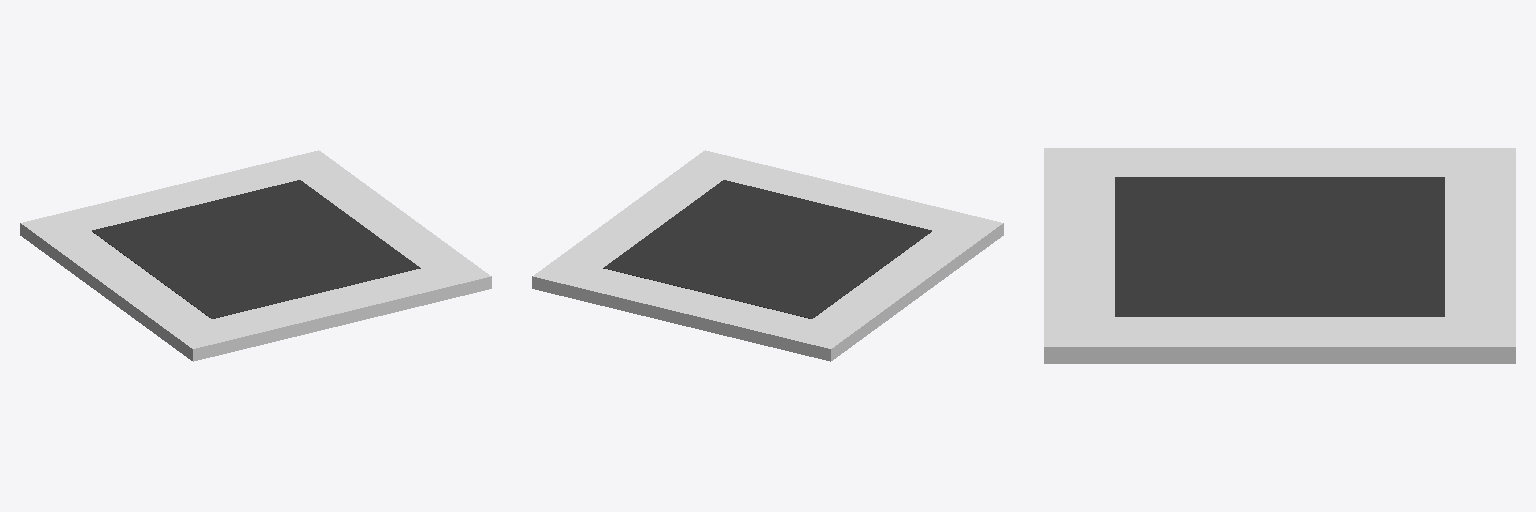
robot.urdf — workspace:
<?xml version="1.0" ?>

<robot name="workspace">
    <material name="workspace">
        <color rgba="0.93 0.93 0.93 1"/>
    </material>
    <material name="range">
        <color rgba="0.3 0.3 0.3 0.3"/>
    </material>
    <link name="workspace">
        <contact>
            <lateral_friction value="0.1"/>
        </contact>
        <inertial>
            <origin rpy="0 0 0" xyz="0 0 0"/>
            <mass value="0"/>
            <inertia ixx="0.1" ixy="0" ixz="0" iyy="0.1" iyz="0" izz="0.1"/>
        </inertial>
        <visual>
            <origin rpy="0 0 0" xyz="0 0 0"/>
            <geometry>
                <box size="0.5 0.5 0.02"/>
            </geometry>
            <material name="workspace"/>
        </visual>
        <collision>
            <origin rpy="0 0 0" xyz="0 0 0"/>
            <geometry>
                <box size="0.5 0.5 0.02"/>
            </geometry>
        </collision>
    </link>
    <joint name="workspace_range_joint" type="fixed">
        <origin rpy="0 0 0" xyz="0 0 0.01005"/>
        <parent link="workspace"/>
        <child link="range"/>
    </joint>
    <link name="range">
        <inertial>
            <origin rpy="0 0 0" xyz="0 0 0"/>
            <mass value="0"/>
            <inertia ixx="0.1" ixy="0" ixz="0" iyy="0.1" iyz="0" izz="0.1"/>
        </inertial>
        <visual>
            <origin rpy="0 0 0" xyz="0 0 0"/>
            <geometry>
                <box size="0.35 0.35 0.001"/>
            </geometry>
            <material name="range"/>
        </visual>
    </link>
</robot>

--- Facts derived from the render (not from the file) ---
Views: 3 orthographic renders of the robot side by side, from view 1: azimuth 30°, elevation 25°; view 2: azimuth 150°, elevation 25°; view 3: azimuth 270°, elevation 25°.
Robot: workspace — 2 links, 1 joints (1 fixed); root link workspace; default pose: every joint at zero.
Links seen in each view (by area): view 1: workspace, range; view 2: workspace, range; view 3: workspace, range.
Link boxes in pixels (x1,y1,x2,y2): workspace: (20, 150, 491, 361); range: (92, 180, 420, 318); workspace: (532, 150, 1003, 361); range: (603, 180, 931, 318); workspace: (1044, 148, 1515, 363); range: (1115, 177, 1444, 316).
Bounding box of the posed robot: 0.5 × 0.5 × 0.0205 m (x, y, z).
Geometry: primitives only (box / cylinder / sphere), no mesh files.